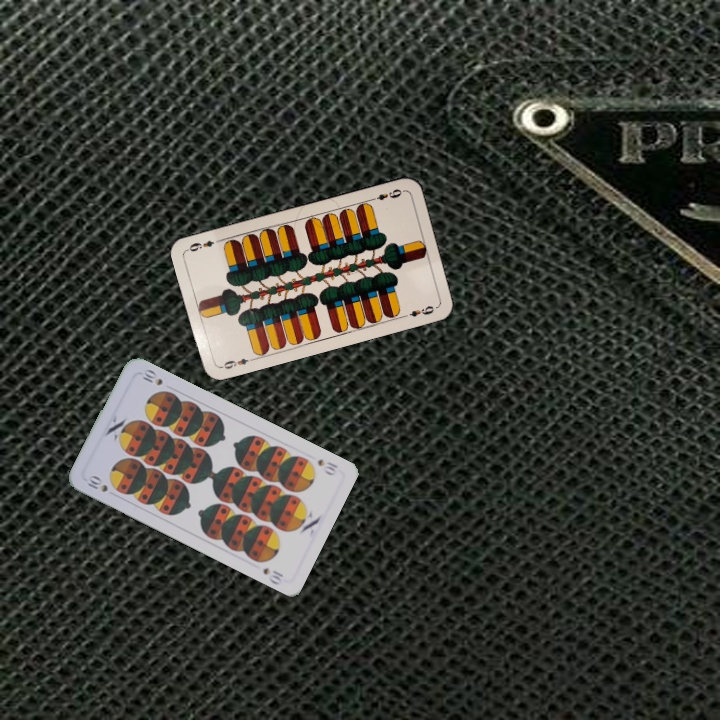E9: (216, 354, 256, 372), (366, 185, 404, 203)
S10: (83, 471, 111, 495), (313, 455, 340, 478)
